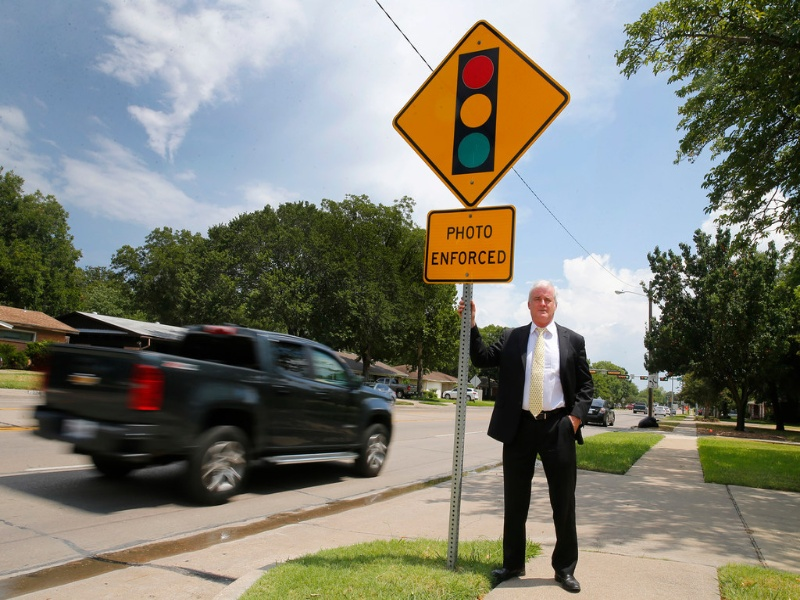traffic signal sign: (390, 19, 575, 210)
